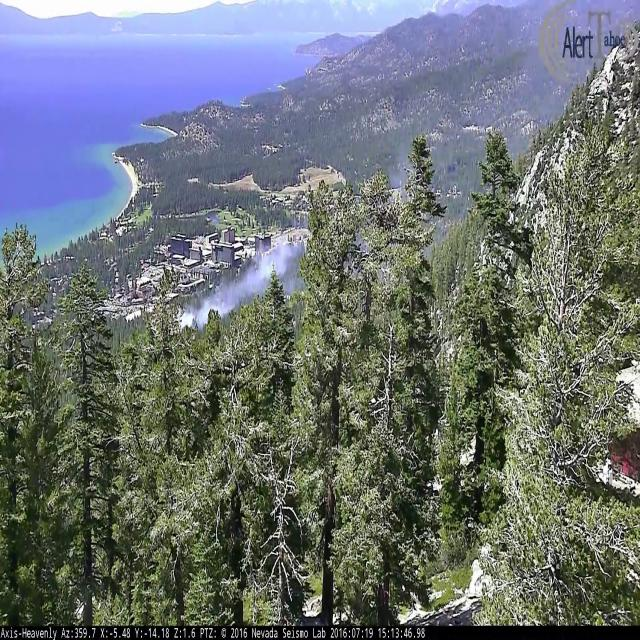smoke: (168, 206, 312, 358)
